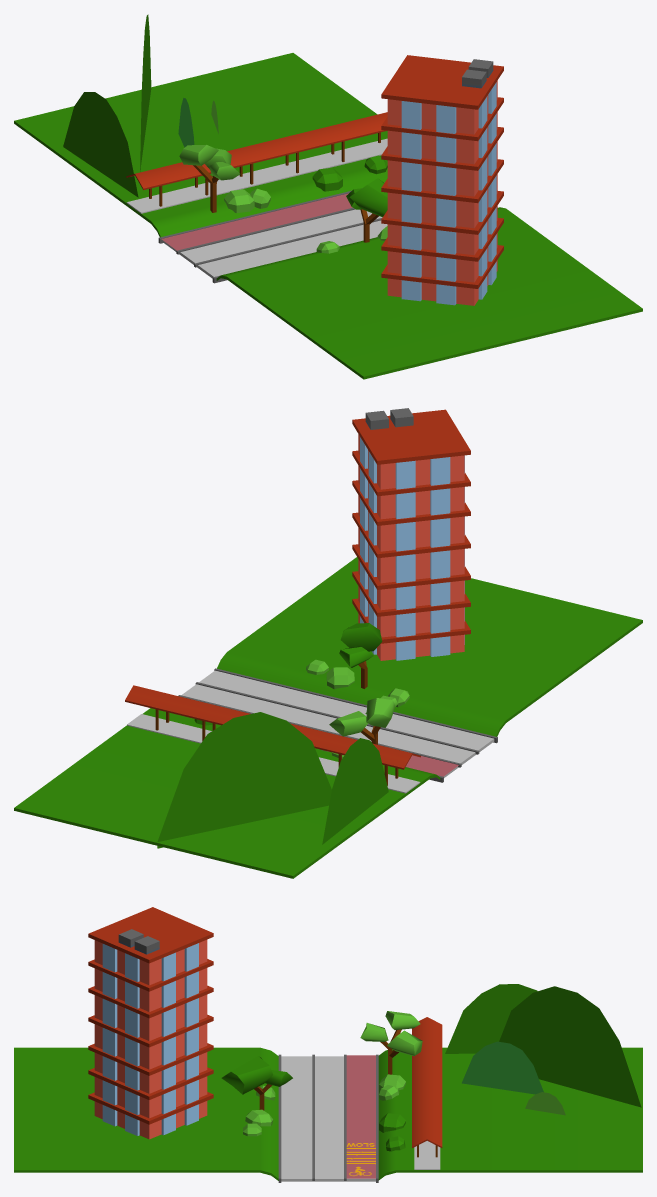
Rendered from Level 2 Chunk 4.fbx.
The picture shows the model from 3 angles, top to bottom: view 1: azimuth 30°, elevation 25°; view 2: azimuth 150°, elevation 25°; view 3: azimuth 270°, elevation 25°; orthographic projection. The views are drawn at different scales.
Parts seen in each view (by area): view 1: pCube7978, Building_B23, pCube7975, pCube7977, pasted__pCube5673, pCube7980, pCube7963, pCube7952, pCube7944, pCube7943, pasted__pasted__pCube5555, Bushes193 (+4 smaller); view 2: pCube7978, Building_B23, pCube7975, pasted__pasted__pCube5555, pCube7977, pasted__pCube5673, pCube7980, pCube7963, pCube7944, pCube7943, pCube7974, pCube7976 (+1 smaller); view 3: Building_B23, pCube7978, pCube7975, pasted__pasted__pCube5555, pCube7977, pCube7952, pCube7980, pasted__pCube5673, pasted__pasted__pCube5554, pCube7944, pCube7943, pCube7963 (+3 smaller).
Part boxes in pixels (x1,y1,x2,y2): pCube7978: [216, 207, 642, 379]; Building_B23: [381, 55, 503, 305]; pCube7975: [14, 53, 387, 237]; pCube7977: [162, 209, 387, 278]; pasted__pCube5673: [63, 92, 138, 197]; pCube7980: [126, 112, 387, 190]; pCube7963: [126, 138, 387, 213]; pCube7952: [161, 193, 352, 250]; pCube7944: [179, 144, 240, 212]; pCube7943: [346, 178, 387, 242]; pasted__pasted__pCube5555: [140, 14, 151, 171]; Bushes193: [312, 167, 342, 191]; pCube7978: [217, 557, 642, 736]; Building_B23: [352, 408, 470, 660]; pCube7975: [14, 708, 440, 878]; pasted__pasted__pCube5555: [157, 712, 331, 848]; pCube7977: [181, 670, 494, 777]; pasted__pCube5673: [322, 738, 388, 844]; pCube7980: [125, 685, 420, 769]; pCube7963: [127, 714, 420, 793]; pCube7944: [329, 695, 397, 744]; pCube7943: [339, 623, 382, 688]; pCube7974: [214, 668, 497, 743]; pCube7976: [195, 682, 479, 754]; Building_B23: [88, 907, 213, 1139]; pCube7978: [14, 1047, 278, 1180]; pCube7975: [378, 1047, 642, 1180]; pasted__pasted__pCube5555: [499, 986, 641, 1107]; pCube7977: [281, 1056, 375, 1181]; pCube7952: [346, 1055, 375, 1178]; pCube7980: [412, 1017, 442, 1148]; pasted__pCube5673: [445, 984, 537, 1053]; pasted__pasted__pCube5554: [462, 1041, 543, 1094]; pCube7944: [360, 1011, 422, 1074]; pCube7943: [221, 1056, 292, 1110]; pCube7963: [414, 1141, 440, 1169].
Bounding box in the file's own units: 12.38 × 9.45 × 26.56.
Materials: 1 (1 with a texture image).
